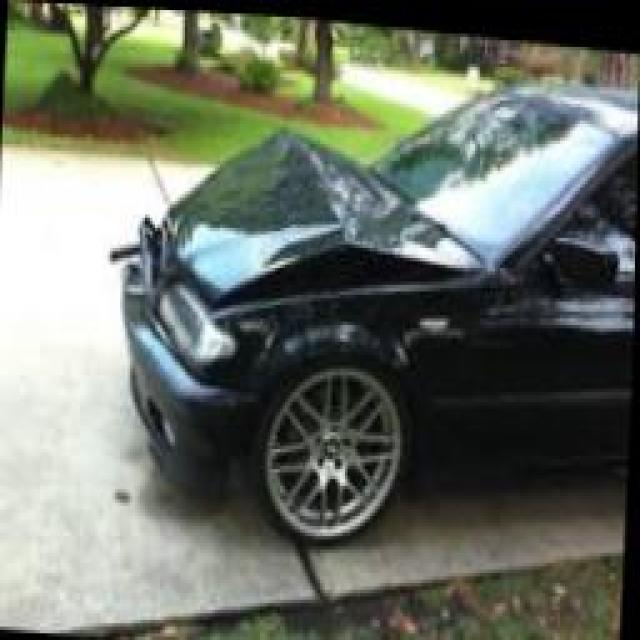Bonnet: (152, 120, 489, 306)
